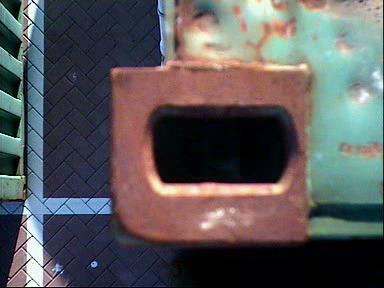groundmarker_2: (188, 162, 219, 212), (186, 1, 213, 33)
